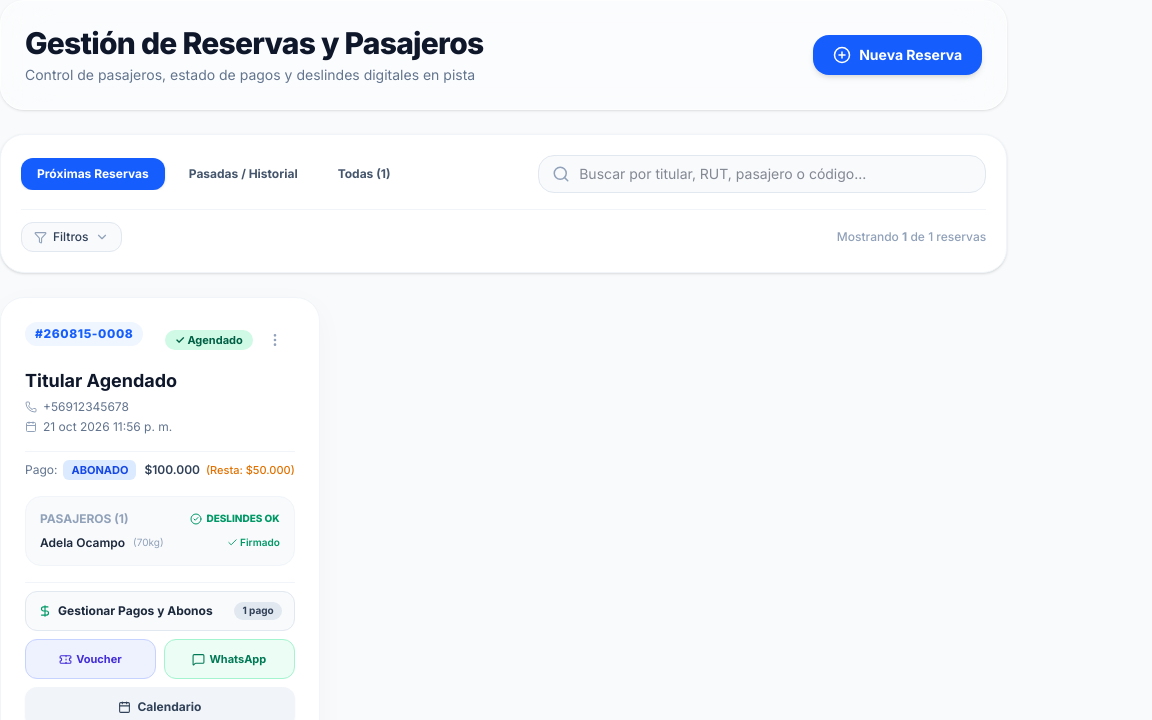
Test: Página de Reservas (/reservas) - Pruebas Unitarias y de Componente › Paginación on-demand y scroll infinito › 13. Debe permitir desagendar una reserva agendada y disparar desagendarReserva al confirmar
Note: Desagendar ahora vive en el menú ⋮ junto a Editar/Eliminar
Click the button named "Acciones de reserva".
click(277, 340)  # box [259,322,295,358]
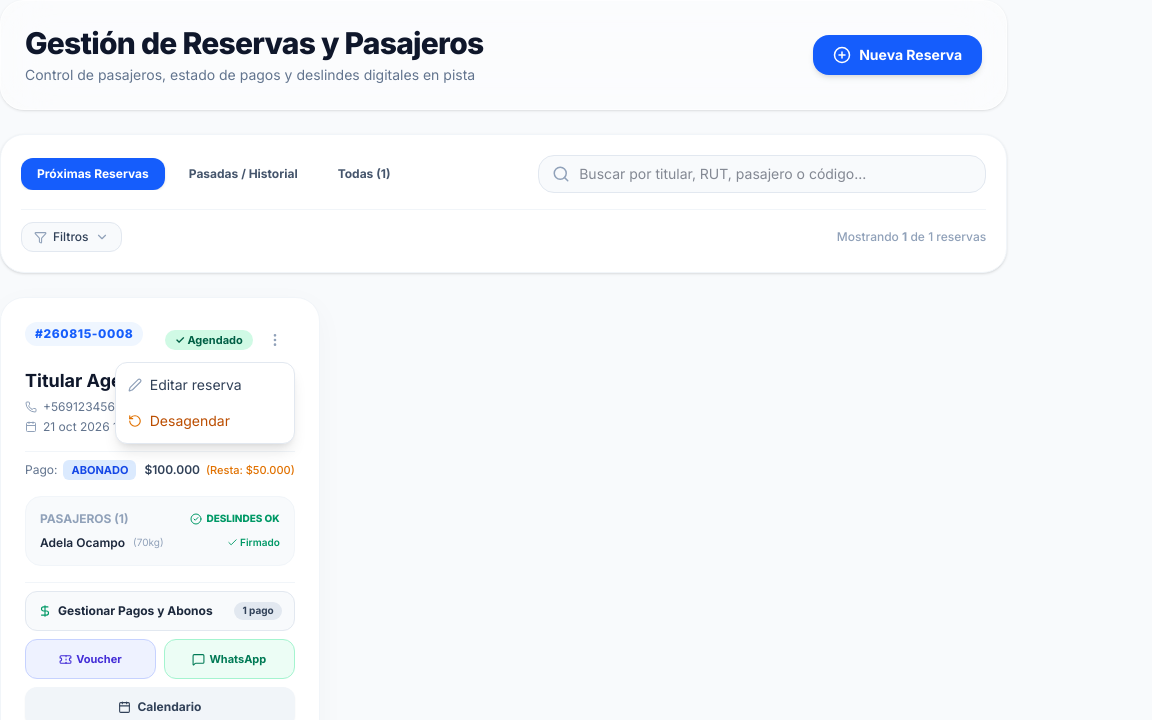
Expected: the menu item "Desagendar" is shown
Click the menu item "Desagendar".
click(205, 421)  # box [116,403,294,439]
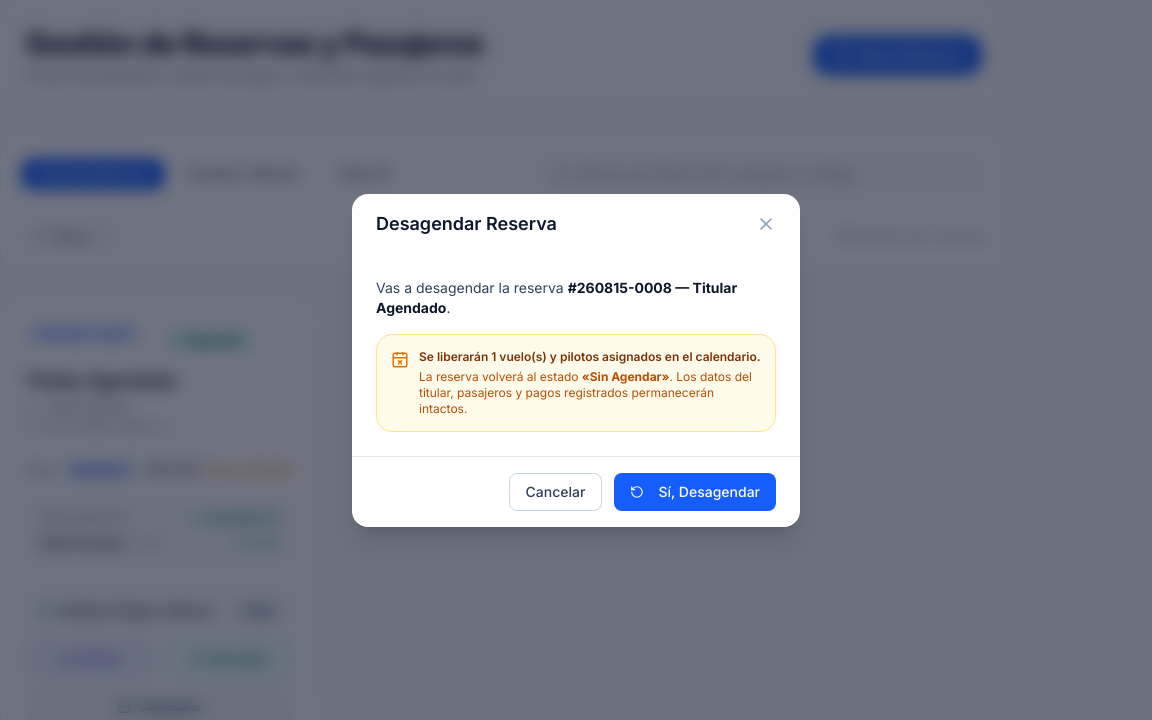
Expected: the heading "Desagendar Reserva" is shown, [376,210,557,238]
Expected: the text "Se liberarán 1 vuelo(s) y pilotos asignados" is shown, [419,348,761,364]
Click the button "Sí, Desagendar".
click(695, 492)  # box [614,472,776,510]
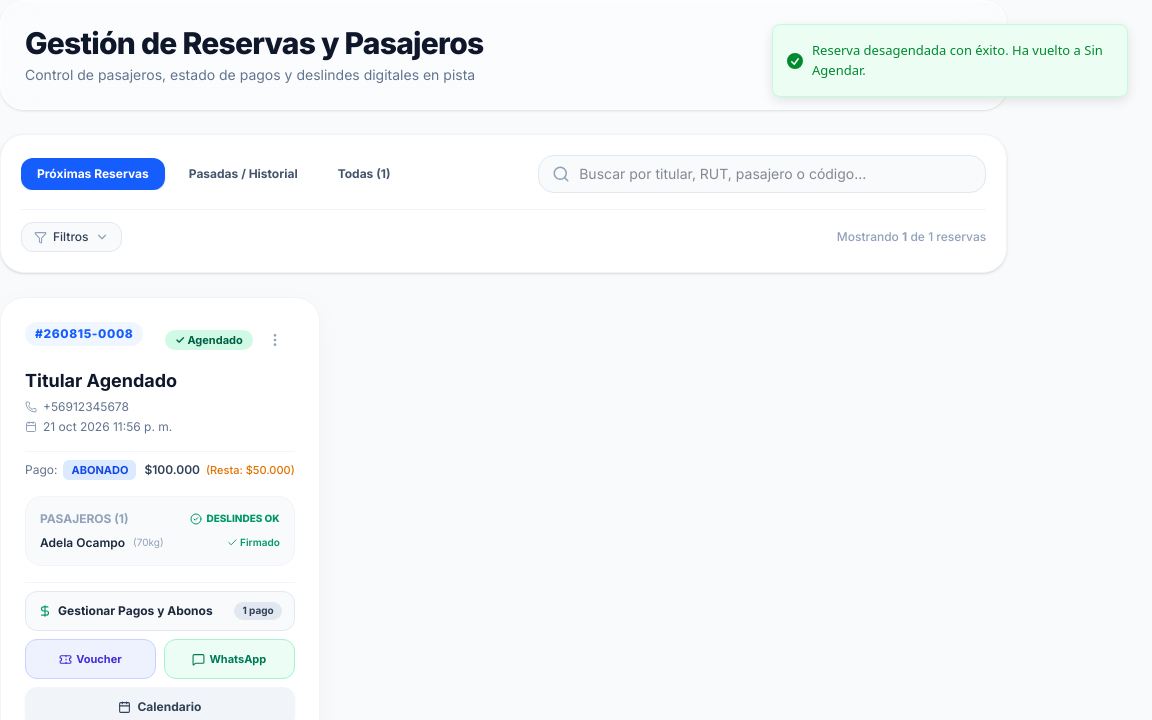
Expected: the heading "Desagendar Reserva" is gone
